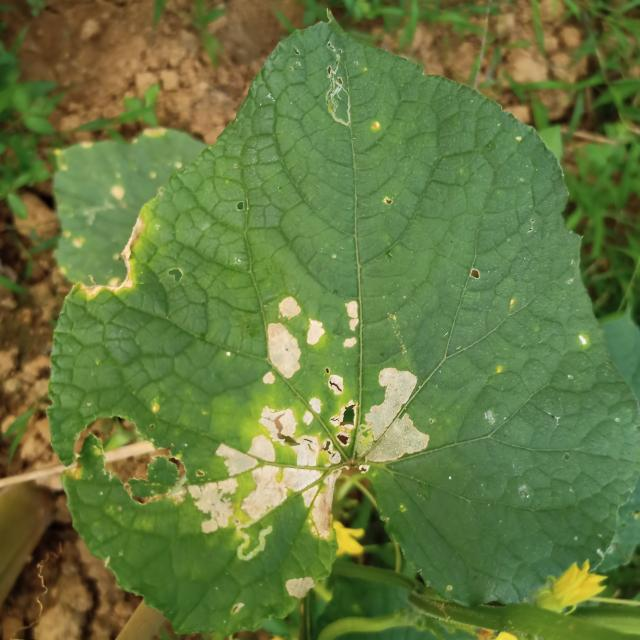disease_cucumber: (194, 281, 436, 549)
